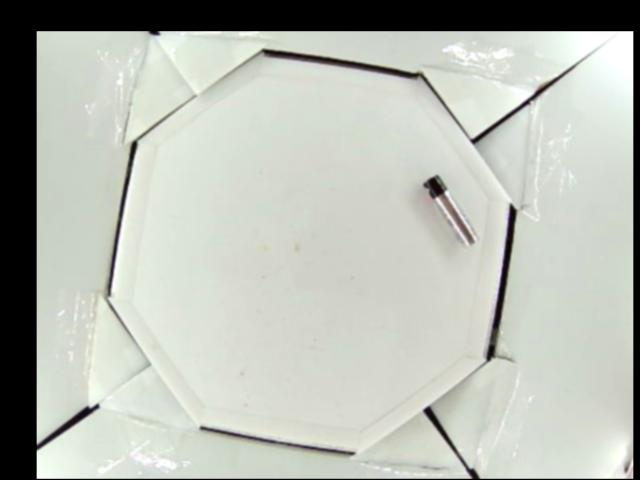Battery: (420, 172, 477, 253)
